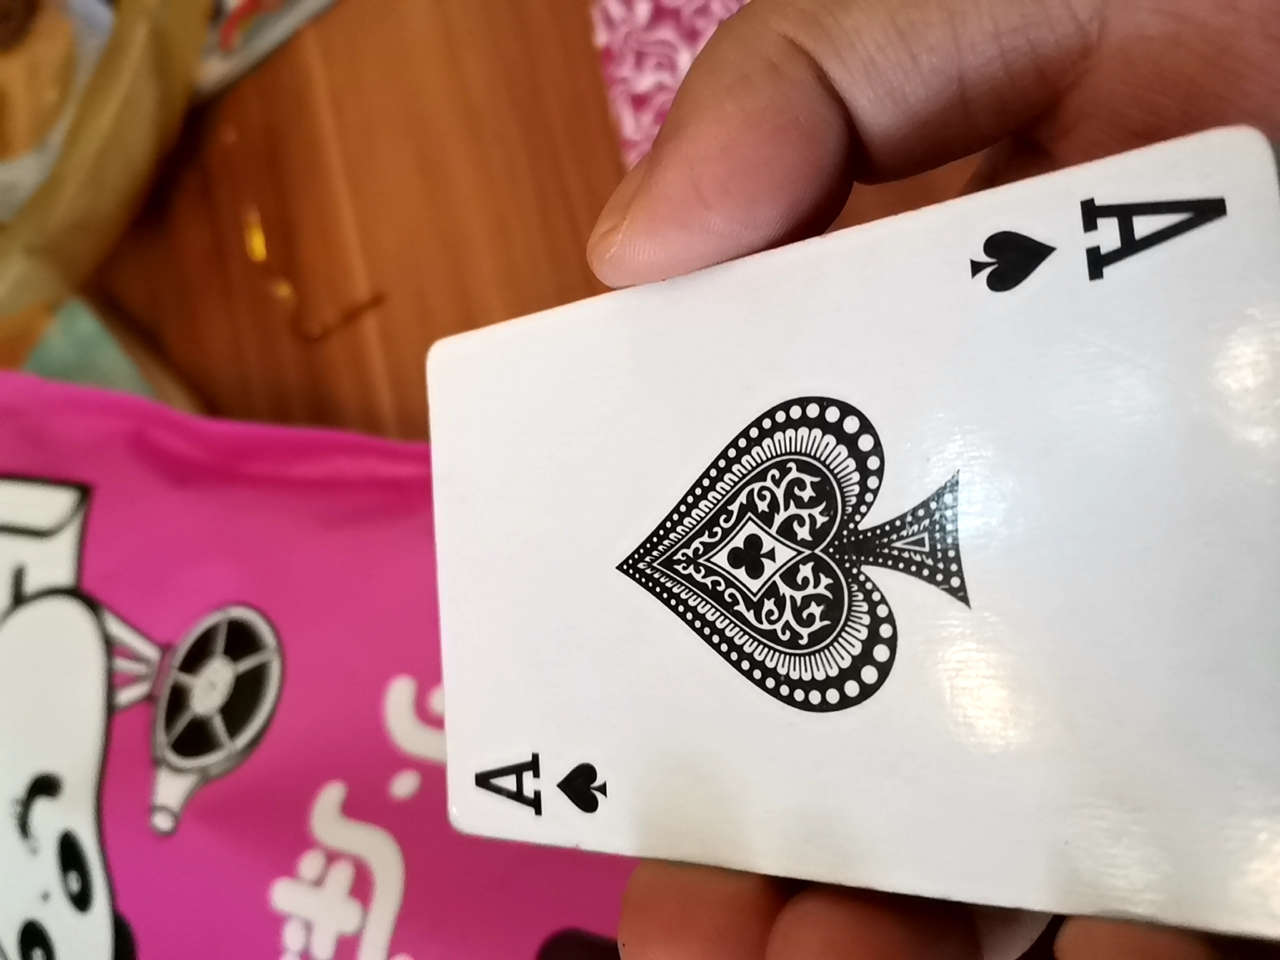ht a: (381, 123, 1267, 924)
